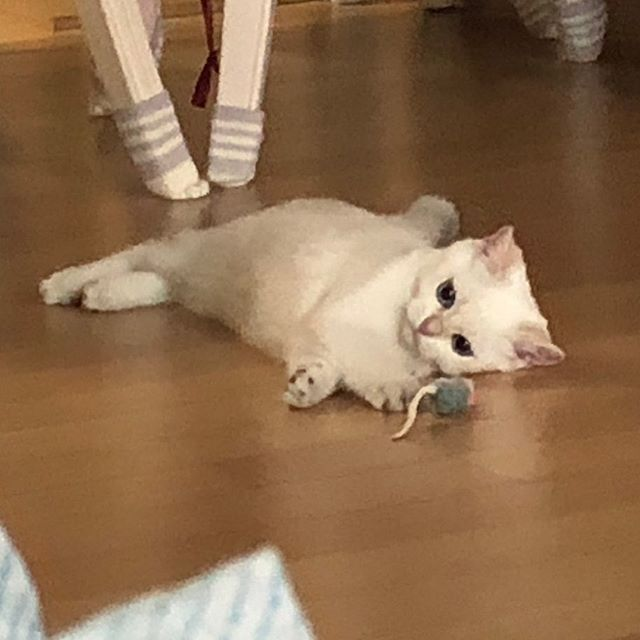cat: (404, 227, 570, 386)
